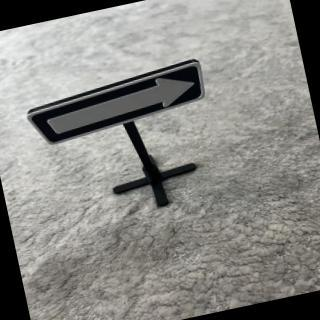sign_oneway_right: (21, 54, 225, 151)
